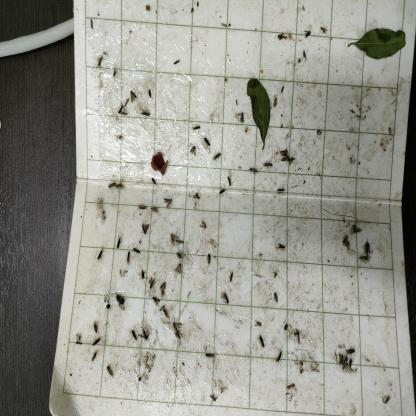prays_oleae: (244, 156, 260, 182), (275, 237, 290, 262), (168, 230, 188, 248), (256, 331, 272, 353), (88, 313, 102, 337), (272, 343, 286, 367), (171, 317, 183, 343), (114, 288, 126, 314), (218, 291, 236, 306), (136, 324, 151, 342), (192, 188, 204, 210), (361, 238, 373, 260), (338, 232, 350, 254), (202, 132, 212, 156), (349, 221, 363, 238), (116, 100, 129, 118), (124, 249, 134, 272), (173, 262, 188, 277), (108, 179, 124, 193), (251, 314, 265, 330), (139, 107, 156, 120), (202, 348, 215, 365), (358, 254, 371, 271), (301, 26, 312, 46), (263, 157, 275, 175), (127, 86, 139, 104), (215, 183, 227, 200), (285, 379, 297, 395), (204, 254, 216, 270), (166, 194, 176, 212), (160, 277, 170, 295), (271, 286, 279, 308), (112, 235, 122, 252), (345, 342, 358, 355), (138, 265, 147, 283), (104, 360, 114, 376), (190, 142, 198, 161), (236, 108, 244, 127), (320, 23, 329, 39), (341, 353, 349, 371), (130, 329, 139, 345), (348, 355, 355, 375), (131, 247, 142, 259), (96, 245, 104, 260), (198, 219, 206, 233), (226, 174, 234, 188), (152, 294, 161, 306), (138, 203, 148, 213), (140, 228, 152, 236), (91, 350, 99, 362), (91, 338, 102, 346), (152, 205, 160, 215), (215, 154, 222, 164), (148, 276, 154, 287)
